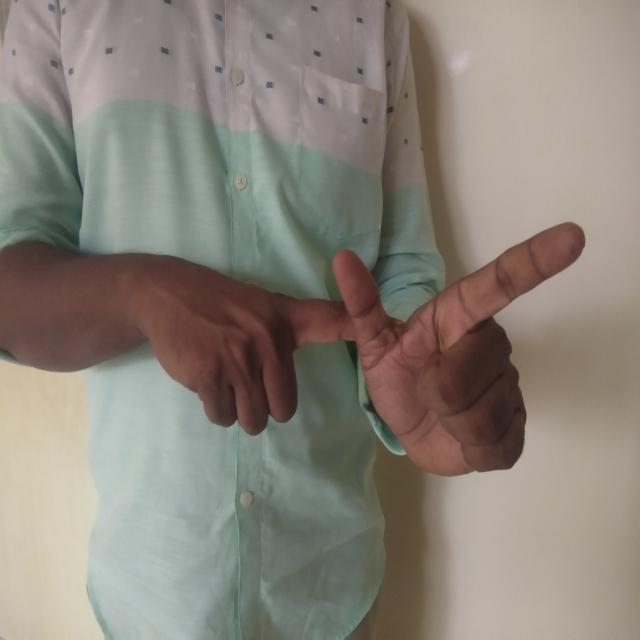Y: (147, 209, 588, 494)
